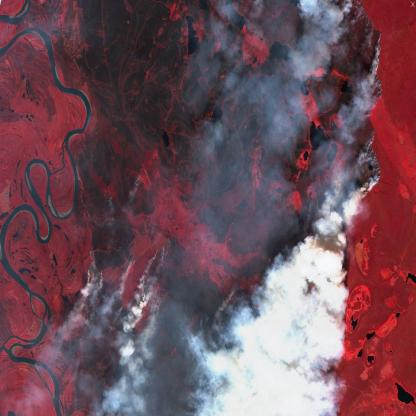fire: (312, 0, 389, 221), (74, 232, 184, 340), (243, 369, 304, 416), (215, 275, 242, 319)
